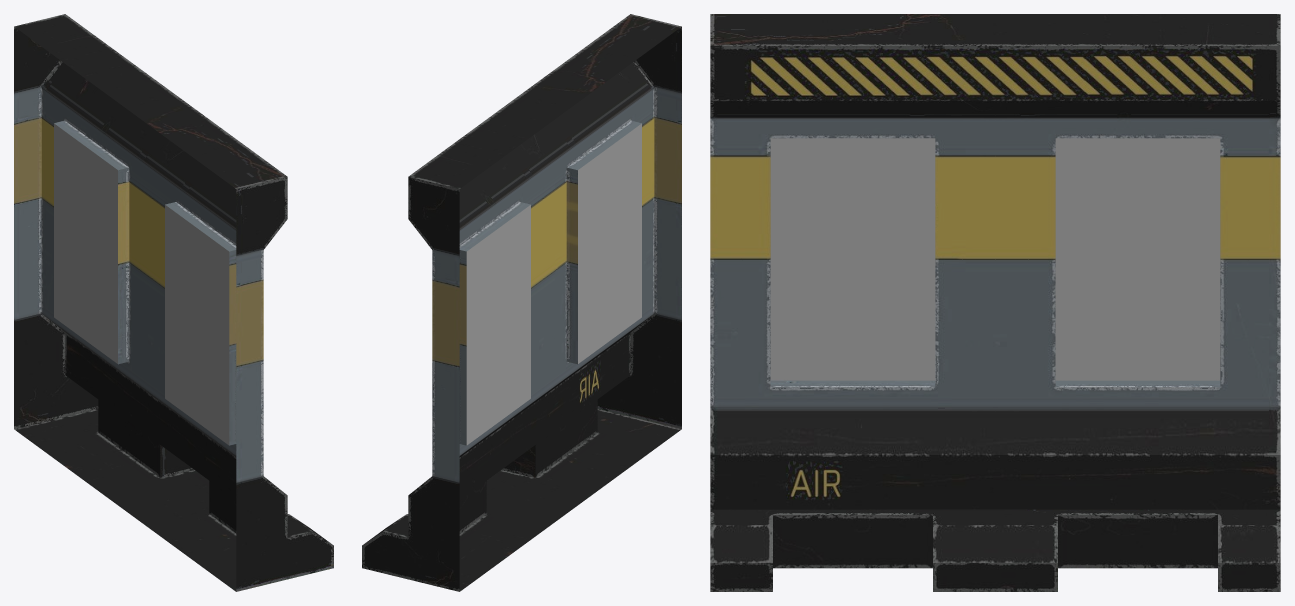
Rendered from lab_ventwall.glb.
3 renders of one model, left to right at view 1: azimuth 30°, elevation 25°; view 2: azimuth 150°, elevation 25°; view 3: azimuth 270°, elevation 25°, orthographic. The views are drawn at different scales.
Parts seen in each view (by area): view 1: prop; view 2: prop; view 3: prop.
Boxes of the visible parts, x1,y1,x2,y2 form: prop: (14, 14, 333, 591); prop: (362, 14, 681, 591); prop: (710, 14, 1280, 591).
Size of the model in its own units: 0.5073 by 2 by 2.
1 material, 1 textured.
